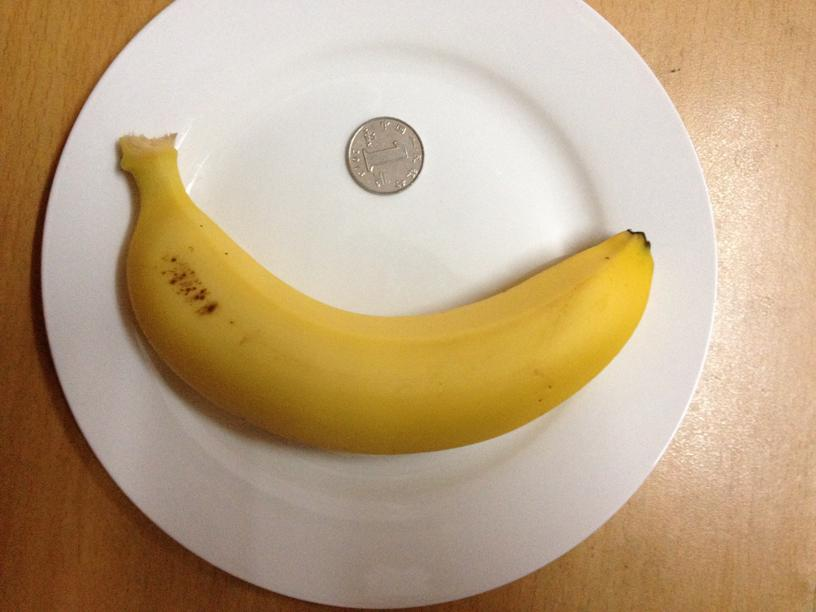banana: (106, 143, 654, 456)
coin: (345, 117, 425, 193)
